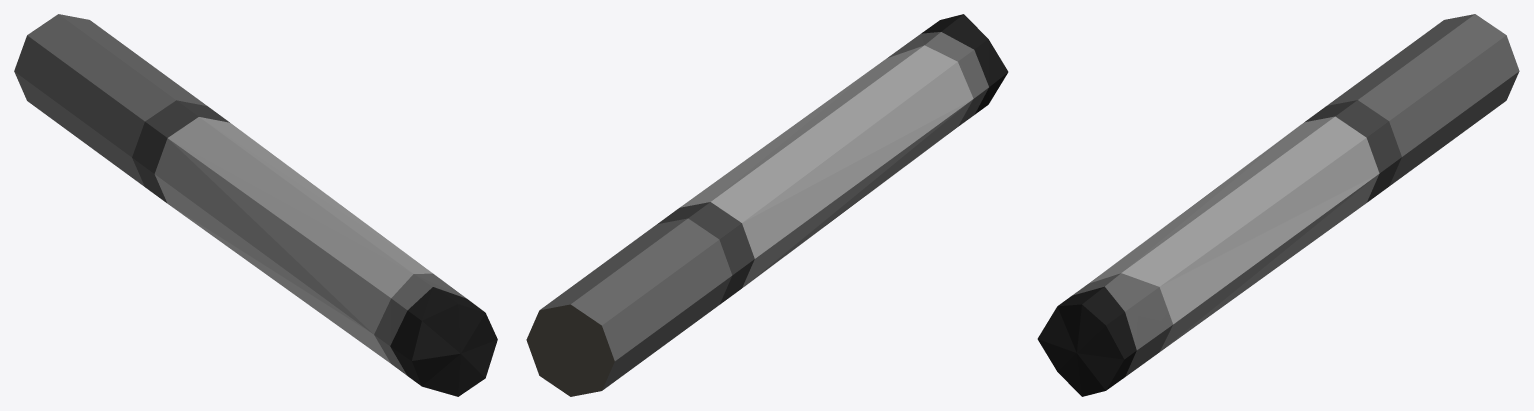
File: Prop_Cigarette_02.fbx
3 views of the same model, side by side, from view 1: azimuth 30°, elevation 25°; view 2: azimuth 150°, elevation 25°; view 3: azimuth 330°, elevation 25° (orthographic).
Visible parts, largest first — view 1: Prop_Cigarette_02_LOD0; view 2: Prop_Cigarette_02_LOD0; view 3: Prop_Cigarette_02_LOD0.
Part boxes in pixels (x1,y1,x2,y2): Prop_Cigarette_02_LOD0: (14, 14, 497, 396); Prop_Cigarette_02_LOD0: (526, 14, 1008, 396); Prop_Cigarette_02_LOD0: (1037, 14, 1519, 396).
Size of what is drawn, in the model's own units: 1.26 by 1.26 by 9.88.
